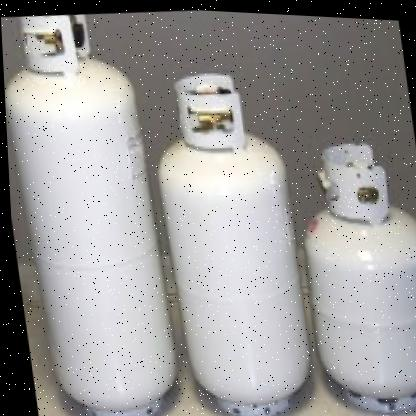gas-tank: (0, 5, 189, 415), (140, 47, 335, 415), (284, 117, 415, 415)
